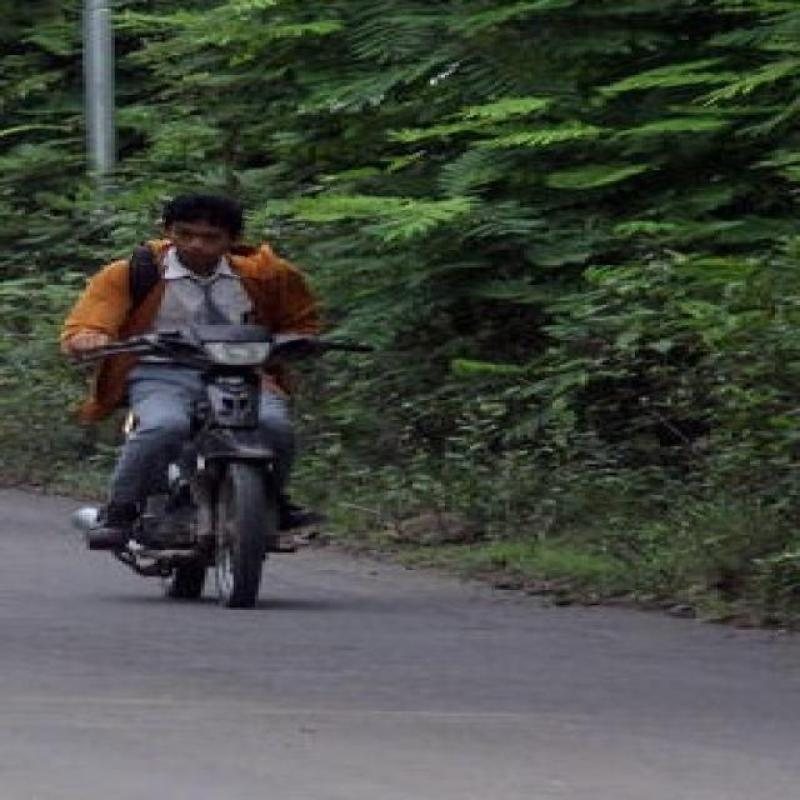nohelmet: (134, 182, 266, 274)
